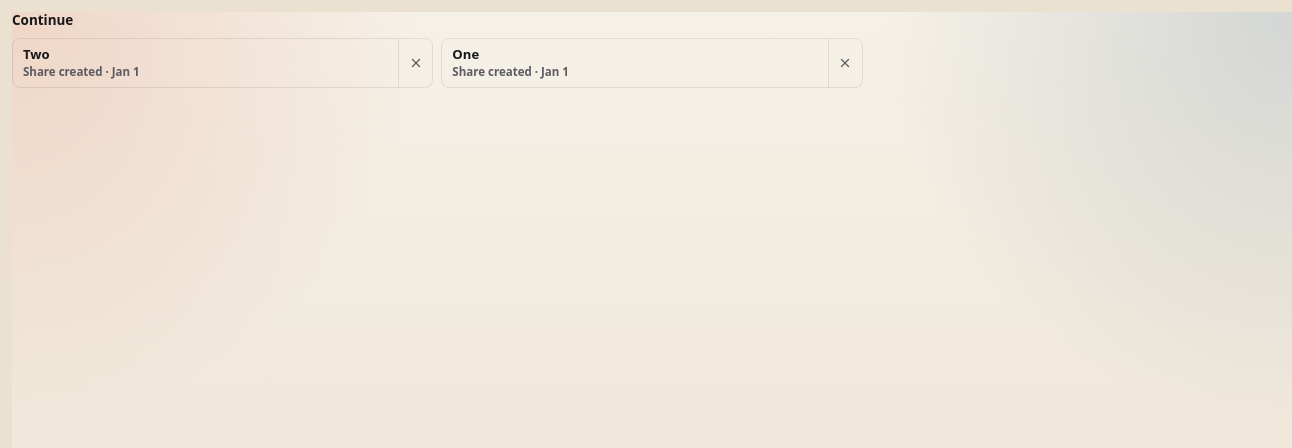
Test case: landing continue panel › removes an item from the continue panel
expect the link "Two Share created · Jan 1" is shown: met, box [23,45,140,79]
Click the button named "remove two". click: x=415, y=63
box: [398,39,432,87]
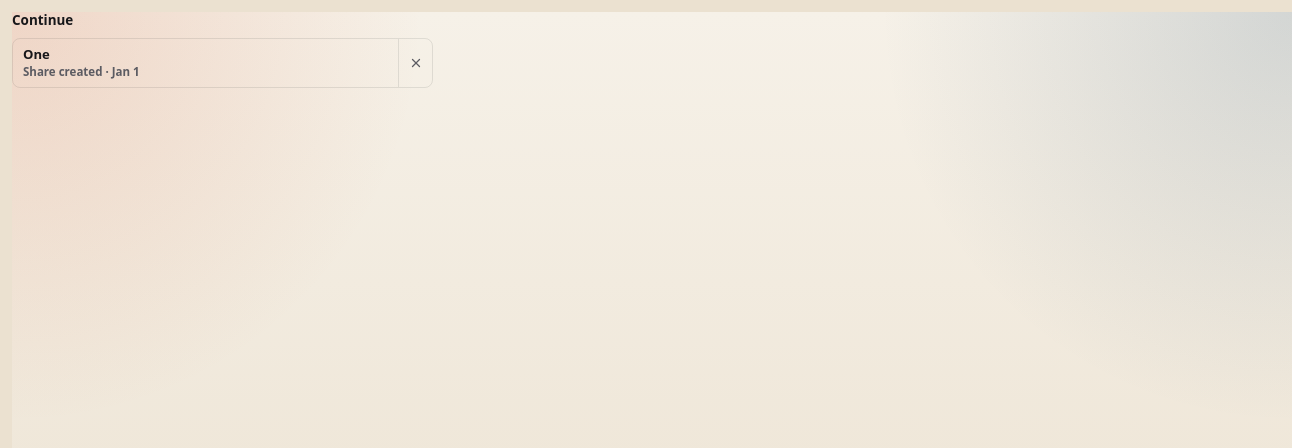
expect the link "One Share created · Jan 1" is shown: met, box [23,45,140,79]
expect the link "Two" is gone: met
